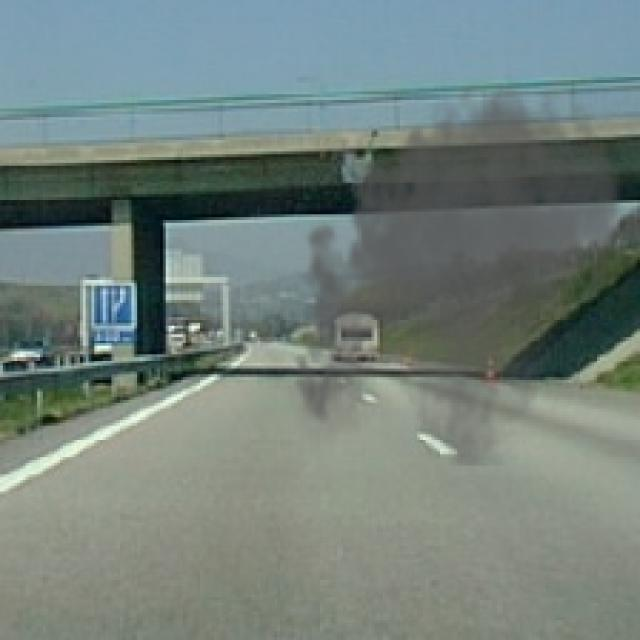Smoke: (282, 68, 628, 466)
